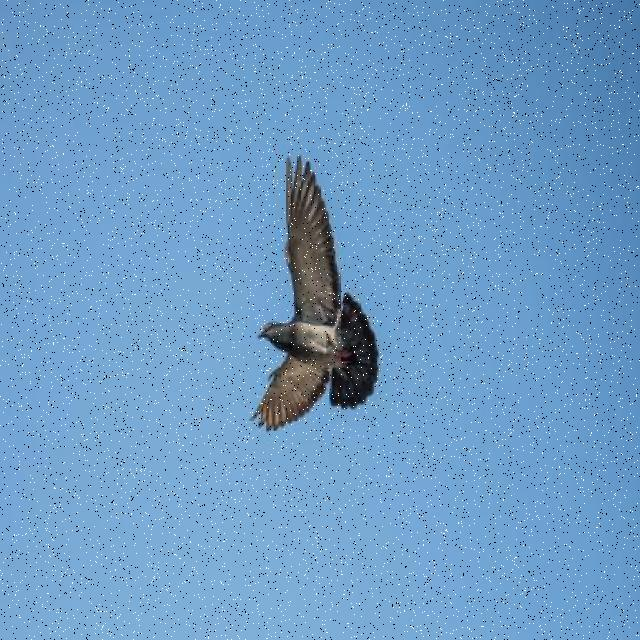bird: (253, 155, 381, 431)
